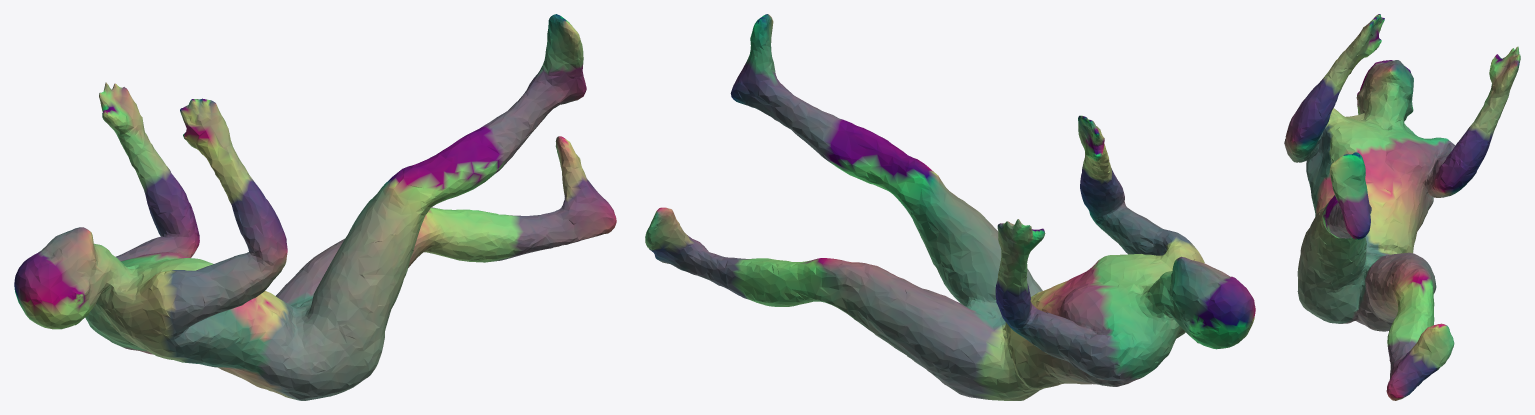
File: man-12.off.obj
3 views of the same model, side by side, from view 1: azimuth 30°, elevation 25°; view 2: azimuth 150°, elevation 25°; view 3: azimuth 270°, elevation 25° (orthographic). The views are drawn at different scales.
Size of the model in its own units: 1.6 by 0.8131 by 0.6363.
